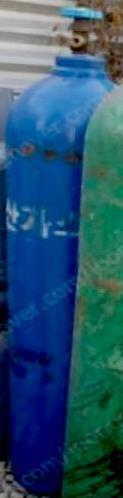cylinder: (1, 1, 123, 498)
